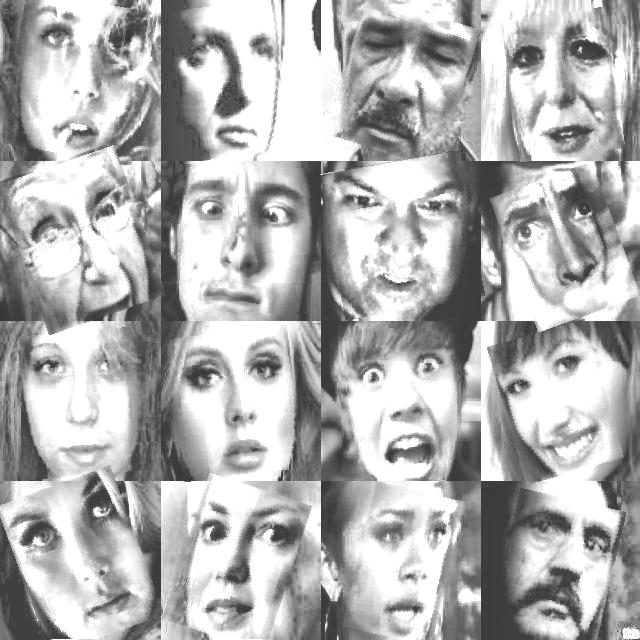angry: (326, 154, 480, 314)
fear: (8, 150, 154, 328), (172, 479, 301, 640), (173, 165, 312, 313), (500, 168, 630, 325), (343, 328, 453, 478)
happy: (496, 324, 616, 480), (506, 10, 620, 159)
neutral: (7, 473, 151, 640), (6, 0, 151, 160), (170, 329, 300, 479), (495, 493, 619, 640), (174, 1, 288, 159), (20, 330, 138, 478)
sad: (332, 1, 472, 161), (350, 485, 456, 640)
